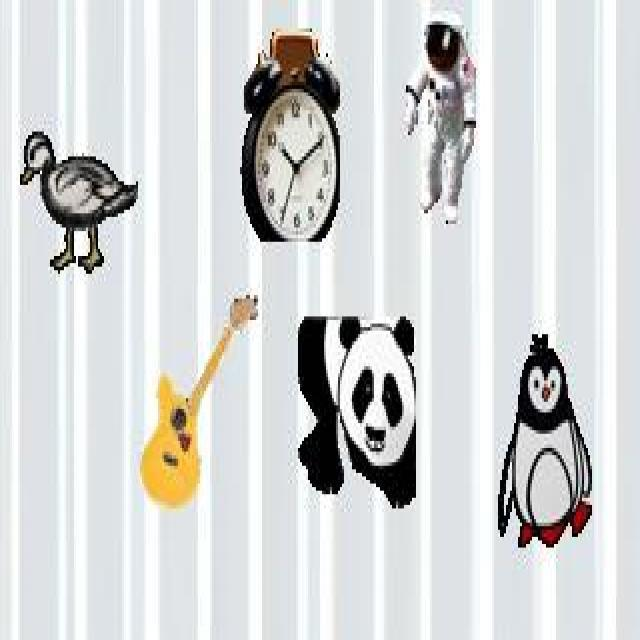Other Objects: (240, 29, 341, 242), (20, 130, 138, 274), (404, 10, 478, 224)
